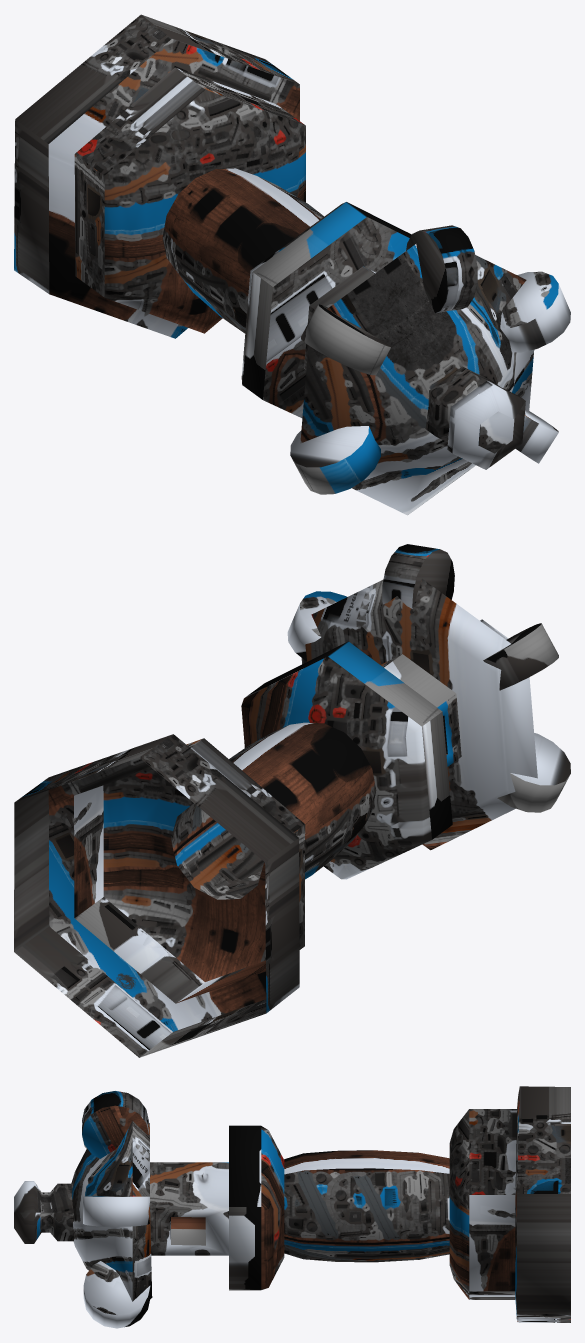
File: lantern.obj
3 views of the same model, one above another, from view 1: azimuth 30°, elevation 25°; view 2: azimuth 150°, elevation 25°; view 3: azimuth 270°, elevation 25° (orthographic). The views are drawn at different scales.
Parts seen in each view (by area): view 1: Lantern_01; view 2: Lantern_01; view 3: Lantern_01.
Part boxes in pixels (x1,y1,x2,y2): Lantern_01: (14,14,570,515); Lantern_01: (14,544,570,1057); Lantern_01: (14,1086,570,1328).
Size of the model in its own units: 12.24 by 12.97 by 27.74.
